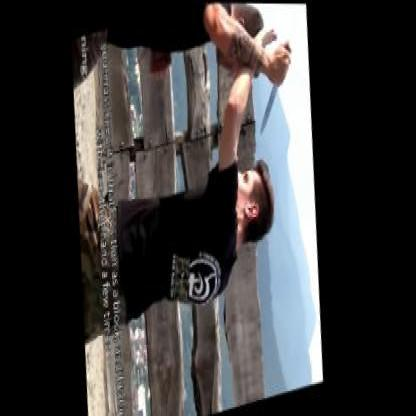knife: (252, 34, 302, 137)
